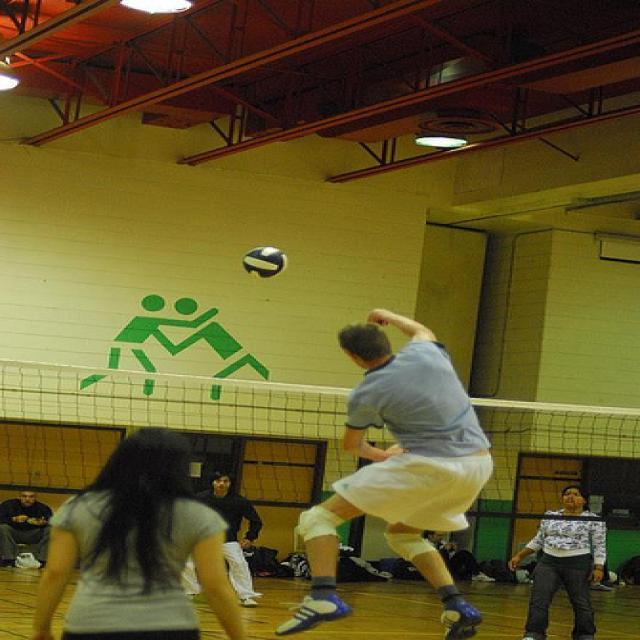volleyball: (240, 247, 288, 280)
